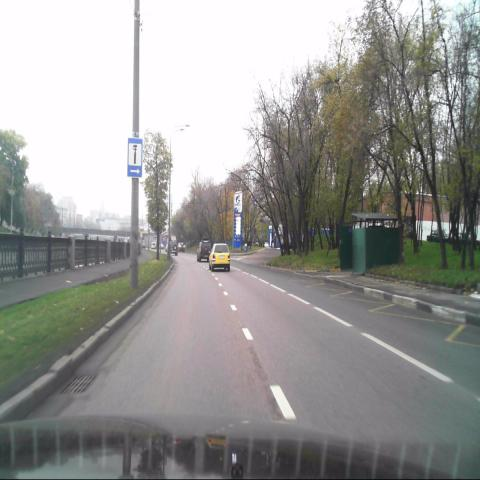7_4: (128, 136, 142, 176)
